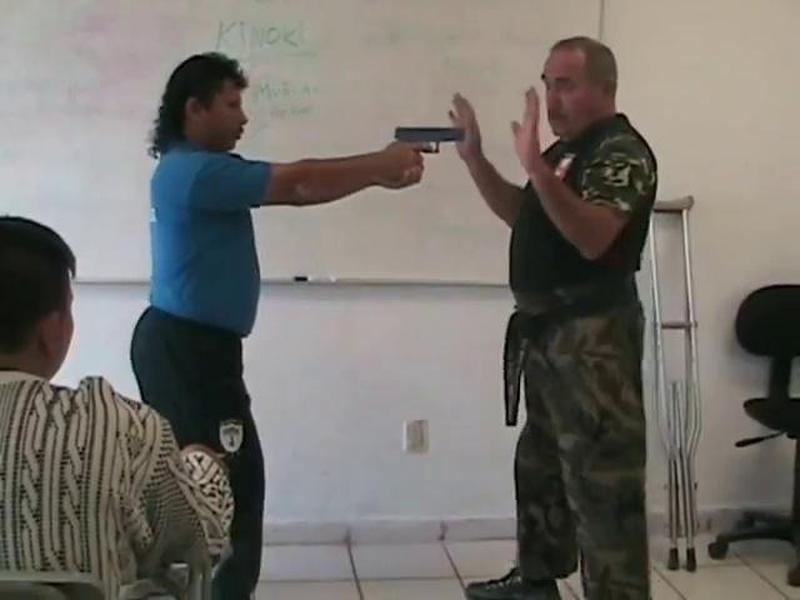Pistola: (389, 122, 474, 168)
